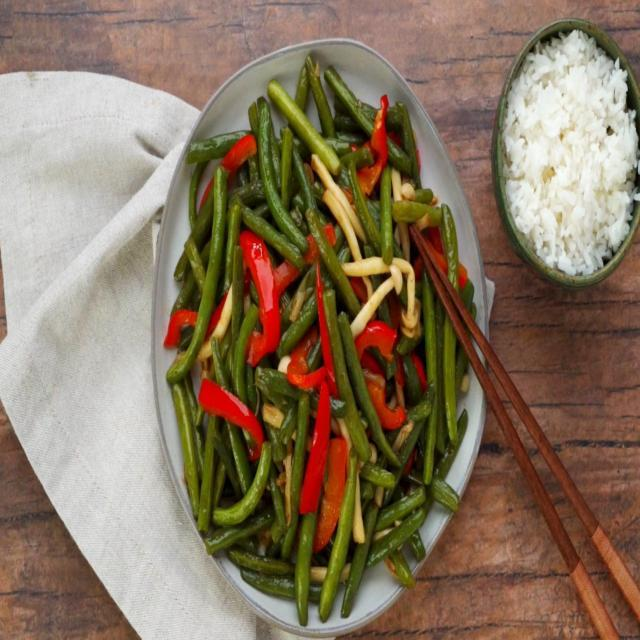Beans: (167, 53, 476, 620)
